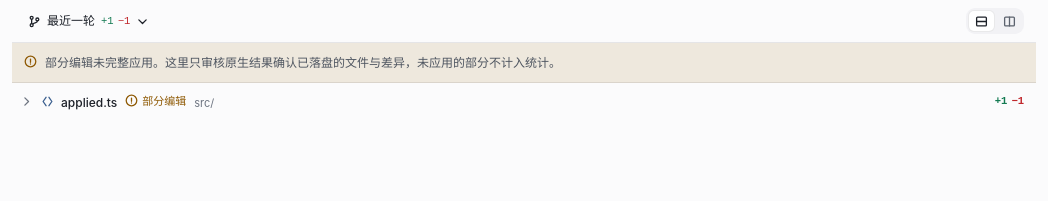
Test case: shows the same native applied-only review and partial warning in the narrow/wide render path (320)
Expected: the message shows "原生结果确认已落盘", [45,55,561,70]
Step 1. Click the button "applied.ts 部分编辑 src/ +1 −1" → (89, 102), box [12,83,1036,119]
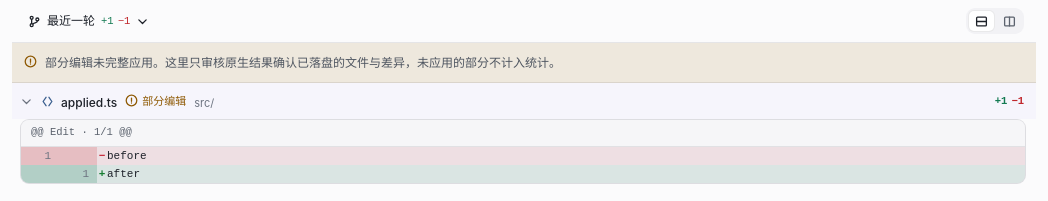
Expected: the text "before" is shown, [107,150,147,162]
Expected: the text "after" is shown, [107,168,140,180]
